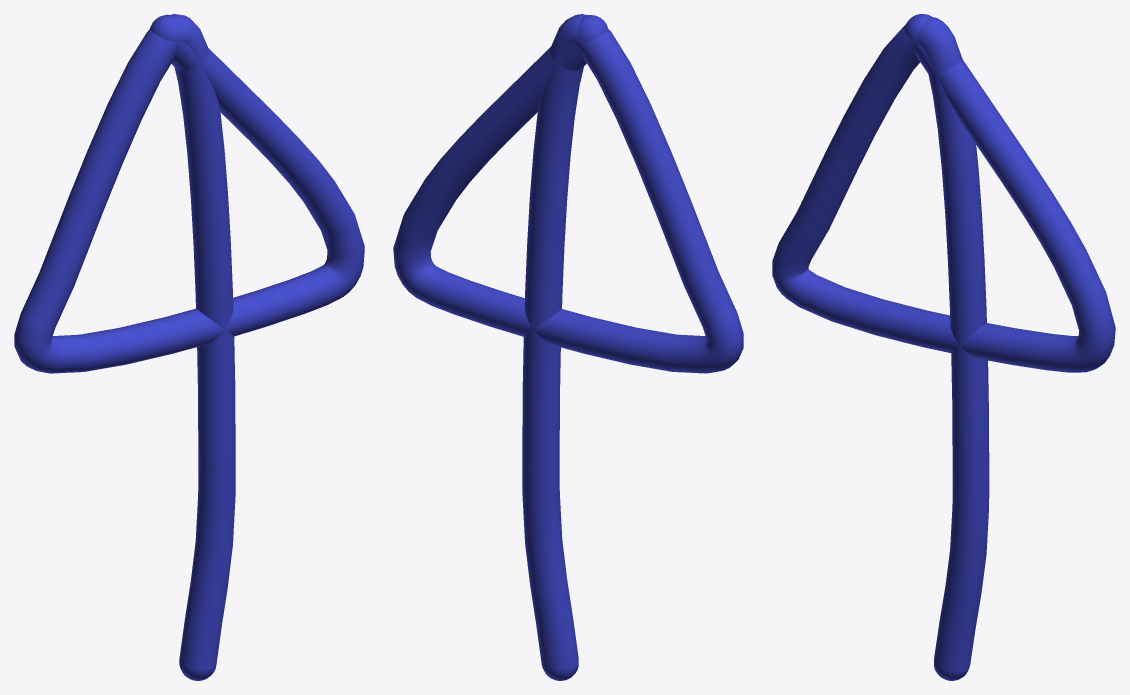
Rendered from Arrow.fbx.
3 views of the same model, side by side, from view 1: azimuth 30°, elevation 25°; view 2: azimuth 150°, elevation 25°; view 3: azimuth 330°, elevation 25° (orthographic). The views are drawn at different scales.
Parts seen in each view (by area): view 1: root; view 2: root; view 3: root.
Boxes of the visible parts, bbox=[...] form: root: bbox=[14, 14, 364, 680]; root: bbox=[393, 14, 743, 680]; root: bbox=[772, 14, 1115, 680].
Size of the model in its own units: 0.1057 by 0.1957 by 0.00989.
